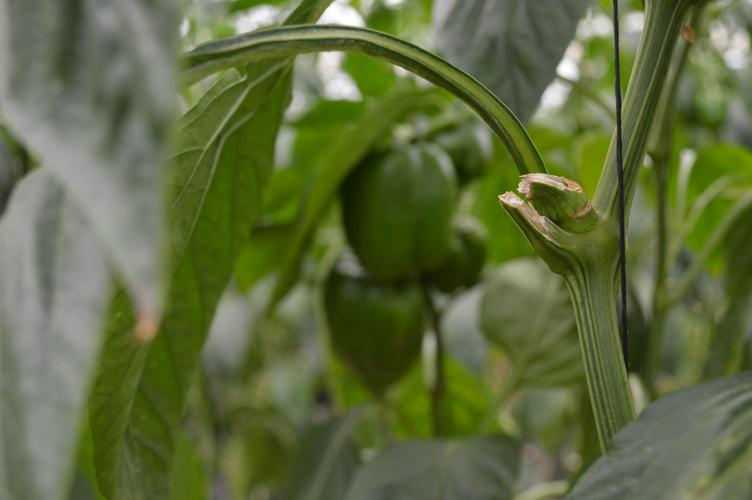BellPepper: (341, 147, 458, 279), (318, 276, 423, 385)
